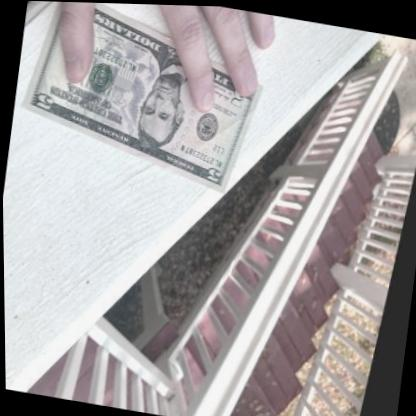five-front: (22, 1, 263, 194)
